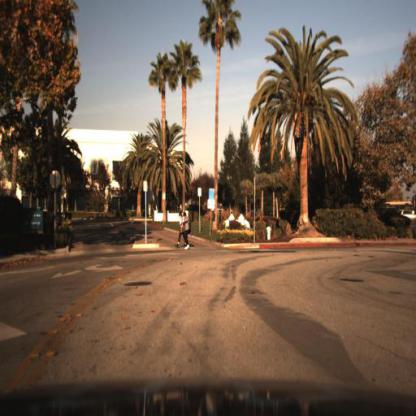pedestrian: (183, 210, 193, 250), (176, 205, 185, 249)
